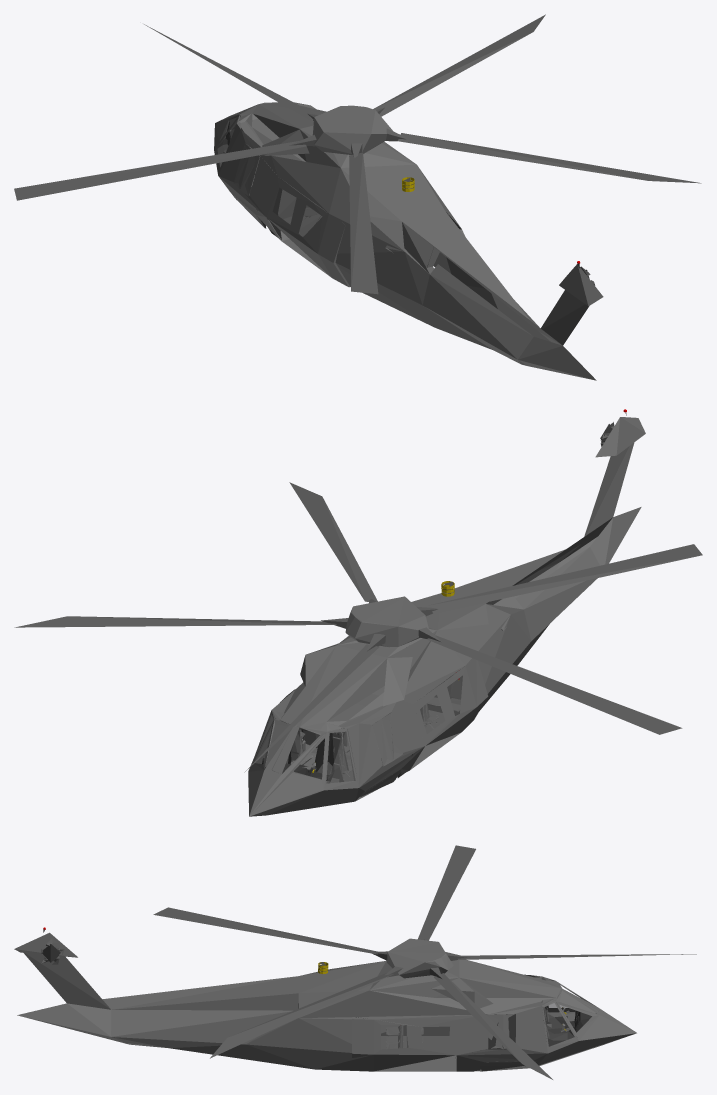
3 views of the same model, one above another, from view 1: azimuth 30°, elevation 25°; view 2: azimuth 150°, elevation 25°; view 3: azimuth 270°, elevation 25° (orthographic). The views are drawn at different scales.
Parts seen in each view (by area): view 1: Geom3D_, Geom3D (×2); view 2: Geom3D_, Geom3D (×4); view 3: Geom3D_, Geom3D (×4).
Part boxes in pixels (box(x1,y1,x2,y2)): Geom3D_: box(214, 102, 603, 380); Geom3D (×2): box(14, 14, 701, 294); Geom3D_: box(248, 417, 645, 816); Geom3D (×4): box(14, 422, 702, 800); Geom3D_: box(14, 932, 636, 1071); Geom3D (×4): box(40, 845, 696, 1079).
Bounding box in the file's own units: 36.9 × 9.3 × 45.93.
Materials: 14 (1 with a texture image).
